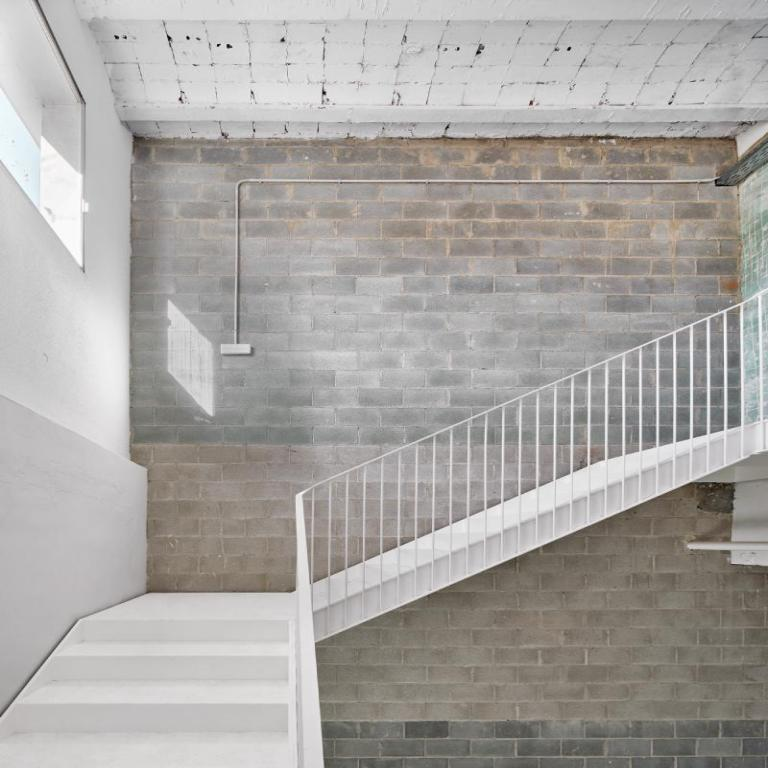white-walls: (2, 439, 123, 654)
